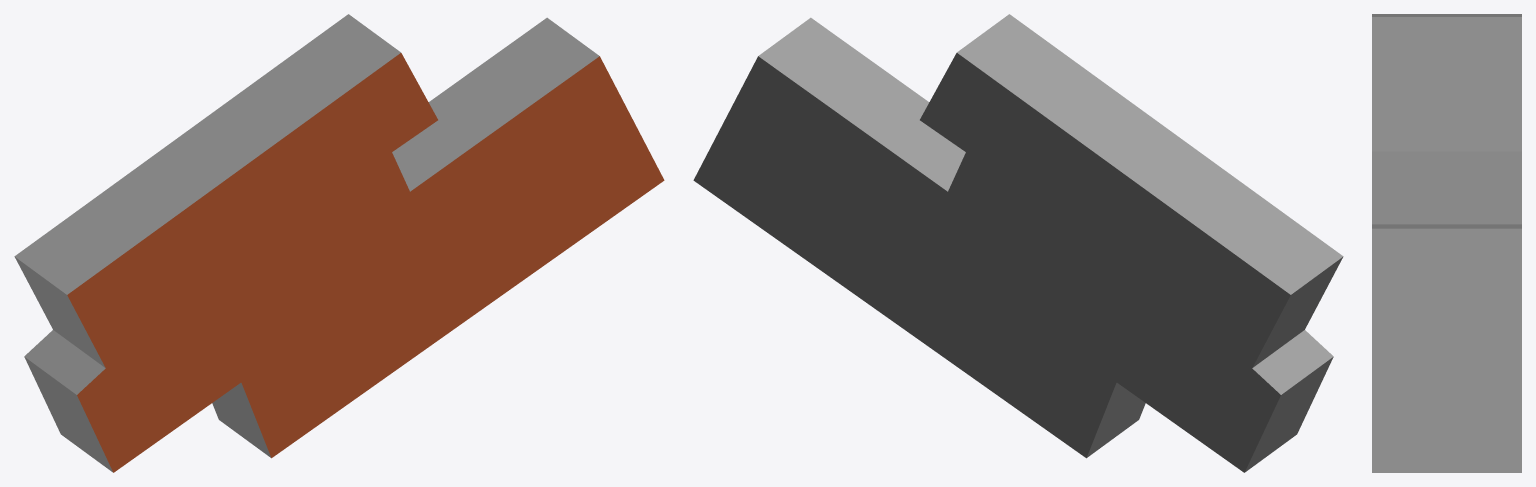
The model's file is construction_2853_assumed_A_Casa_h6m.obj.
3 renders of one model, left to right at view 1: azimuth 30°, elevation 25°; view 2: azimuth 150°, elevation 25°; view 3: azimuth 270°, elevation 25°, orthographic. The views are drawn at different scales.
Visible parts, largest first — view 1: construction_2853_assumed_A_Casa; view 2: construction_2853_assumed_A_Casa; view 3: construction_2853_assumed_A_Casa.
Part boxes in pixels (x1,y1,x2,y2): construction_2853_assumed_A_Casa: (14, 14, 664, 472); construction_2853_assumed_A_Casa: (693, 14, 1343, 472); construction_2853_assumed_A_Casa: (1372, 14, 1521, 472).
Size of the model in its own units: 39.26 by 23.5 by 6.
